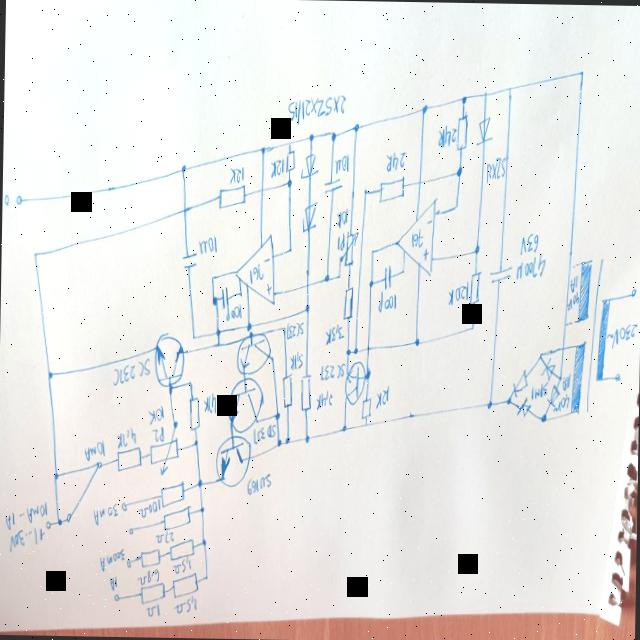capacitor: (490, 266, 514, 286), (182, 252, 198, 272), (383, 264, 392, 292), (222, 286, 230, 310)
crossover: (560, 344, 566, 356), (182, 204, 188, 216), (366, 345, 372, 354), (417, 178, 422, 188), (304, 282, 310, 290)
diode: (475, 116, 494, 148), (302, 203, 318, 236), (300, 154, 318, 180), (512, 370, 528, 399), (541, 358, 555, 382), (516, 396, 531, 418), (548, 384, 558, 408)
junction: (246, 326, 255, 341), (246, 322, 254, 336), (456, 166, 463, 180), (180, 163, 187, 176), (353, 122, 360, 134), (473, 244, 480, 256), (365, 369, 371, 383), (461, 95, 468, 106), (212, 296, 218, 308), (422, 105, 428, 117), (580, 68, 586, 80), (33, 250, 39, 262), (342, 424, 348, 436), (304, 434, 310, 446), (285, 434, 291, 446), (216, 326, 222, 338), (281, 324, 287, 336), (506, 396, 512, 408), (197, 479, 203, 490), (287, 178, 293, 189), (199, 505, 205, 516), (57, 518, 63, 529), (414, 337, 420, 348), (277, 438, 283, 449), (48, 371, 54, 382), (53, 472, 59, 483), (331, 132, 337, 142), (308, 134, 314, 144), (304, 305, 310, 315), (488, 400, 493, 412), (188, 380, 194, 390), (324, 274, 330, 284), (201, 538, 207, 548), (192, 334, 198, 344), (542, 414, 548, 424), (216, 341, 222, 351), (483, 90, 489, 100), (454, 202, 459, 214), (338, 257, 344, 267), (276, 412, 282, 422), (193, 438, 199, 448), (354, 346, 359, 357), (260, 147, 266, 156), (210, 274, 216, 283), (507, 86, 513, 95), (346, 348, 352, 357), (369, 281, 374, 291), (538, 352, 543, 362), (470, 325, 476, 333), (363, 189, 368, 198), (288, 247, 293, 256), (564, 320, 568, 330), (238, 290, 242, 299), (558, 374, 562, 383), (338, 274, 342, 282), (370, 250, 374, 258), (402, 269, 406, 277), (288, 140, 292, 148), (568, 262, 572, 270), (363, 424, 369, 429), (204, 575, 208, 582)
resistor: (148, 421, 179, 478), (171, 572, 200, 600), (162, 509, 192, 534), (116, 446, 142, 474), (380, 176, 406, 204), (218, 184, 246, 210), (341, 232, 359, 270), (170, 539, 195, 563), (139, 582, 165, 604), (161, 485, 189, 505), (469, 270, 482, 308), (140, 548, 162, 570), (189, 397, 202, 434), (281, 373, 294, 410), (300, 374, 312, 414), (456, 114, 468, 152), (343, 286, 355, 323), (361, 398, 372, 422), (286, 149, 296, 175)
source: (324, 179, 344, 195)
switch: (66, 461, 136, 604)
terminal: (14, 193, 24, 209), (4, 193, 10, 210), (630, 289, 636, 300), (46, 521, 52, 532), (615, 373, 621, 384)
text: (286, 93, 347, 124), (3, 494, 50, 532), (112, 357, 152, 388), (606, 317, 640, 350), (10, 527, 46, 555), (516, 253, 548, 282), (246, 471, 272, 499), (100, 547, 126, 574), (92, 504, 120, 528), (486, 156, 507, 184), (116, 426, 138, 451), (448, 284, 470, 308), (386, 150, 408, 174), (84, 439, 105, 464), (520, 234, 540, 258), (321, 363, 345, 383), (286, 319, 306, 343), (253, 425, 275, 446), (140, 500, 162, 520), (176, 597, 198, 617), (438, 126, 456, 150), (288, 348, 304, 374), (198, 236, 218, 256), (374, 386, 390, 411), (324, 326, 344, 346), (378, 294, 398, 314), (172, 557, 192, 576), (316, 391, 334, 412), (140, 570, 160, 588), (334, 154, 350, 176), (204, 392, 218, 416), (148, 407, 164, 428), (531, 382, 548, 401), (249, 266, 265, 286), (270, 157, 284, 179), (226, 304, 242, 322), (566, 292, 580, 312), (230, 167, 244, 186), (155, 532, 174, 546), (336, 210, 348, 231), (558, 396, 572, 414), (151, 427, 165, 444), (147, 604, 161, 620), (562, 372, 572, 392), (570, 274, 578, 294), (110, 574, 118, 592), (266, 282, 272, 298), (263, 256, 270, 266)
transformer: (570, 256, 615, 424)
transistor: (216, 434, 253, 490), (229, 380, 265, 436), (154, 333, 186, 392), (237, 335, 272, 378), (346, 363, 366, 405)
